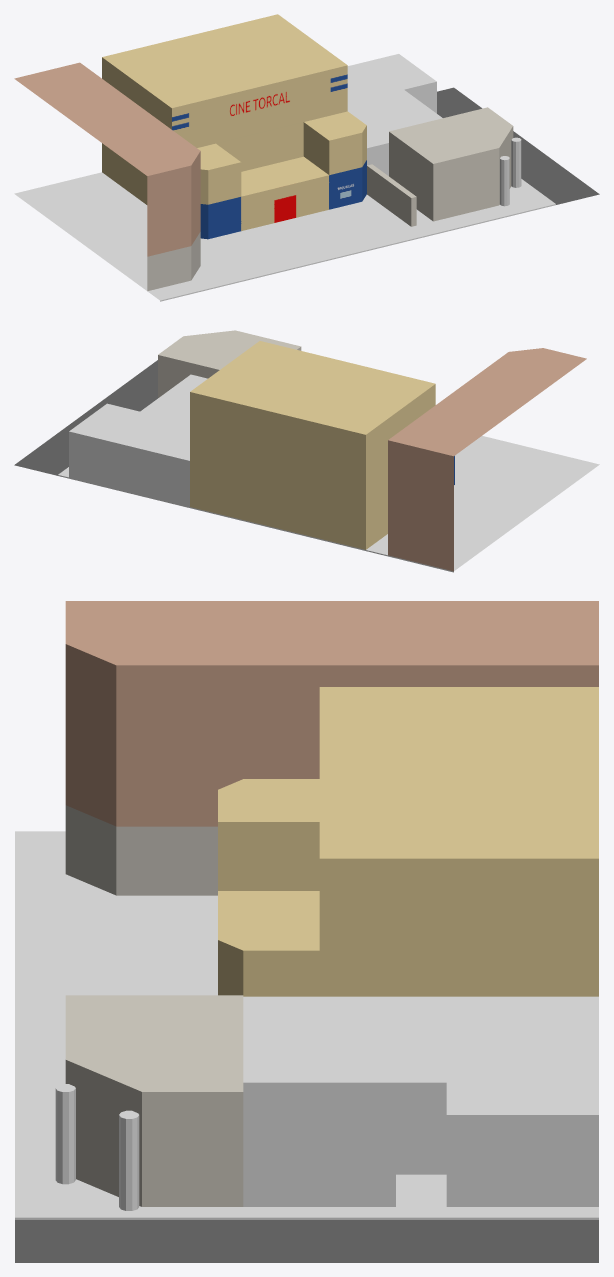
The model's file is cinema.glb.
3 views of the same model, one above another, from view 1: azimuth 30°, elevation 25°; view 2: azimuth 150°, elevation 25°; view 3: azimuth 270°, elevation 25° (orthographic). The views are drawn at different scales.
Parts seen in each view (by area): view 1: Cine, Sidewalk, Mafia, Bank, Music School, Cylinder.001, Cylinder; view 2: Cine, Mafia, Sidewalk, Music School, Bank; view 3: Cine, Mafia, Music School, Sidewalk, Bank, Cylinder, Cylinder.001.
Boxes of the visible parts, x1=… form: Cine: x1=102, y1=14, x2=366, y2=239; Sidewalk: x1=14, y1=87, x2=599, y2=301; Mafia: x1=14, y1=62, x2=200, y2=291; Bank: x1=367, y1=107, x2=513, y2=226; Music School: x1=347, y1=54, x2=442, y2=175; Cylinder.001: x1=511, y1=137, x2=521, y2=187; Cylinder: x1=500, y1=156, x2=509, y2=206; Cine: x1=190, y1=341, x2=454, y2=549; Mafia: x1=388, y1=348, x2=586, y2=571; Sidewalk: x1=14, y1=360, x2=599, y2=572; Music School: x1=69, y1=374, x2=207, y2=506; Bank: x1=158, y1=330, x2=301, y2=397; Cine: x1=218, y1=687, x2=598, y2=996; Mafia: x1=65, y1=601, x2=598, y2=895; Music School: x1=243, y1=996, x2=598, y2=1206; Sidewalk: x1=15, y1=831, x2=598, y2=1262; Bank: x1=65, y1=995, x2=243, y2=1206; Cylinder: x1=55, y1=1084, x2=75, y2=1184; Cylinder.001: x1=119, y1=1110, x2=139, y2=1210.
Size of what is drawn, in the model's own units: 40 by 10.1 by 23.
Materials: 10 (2 with a texture image).
